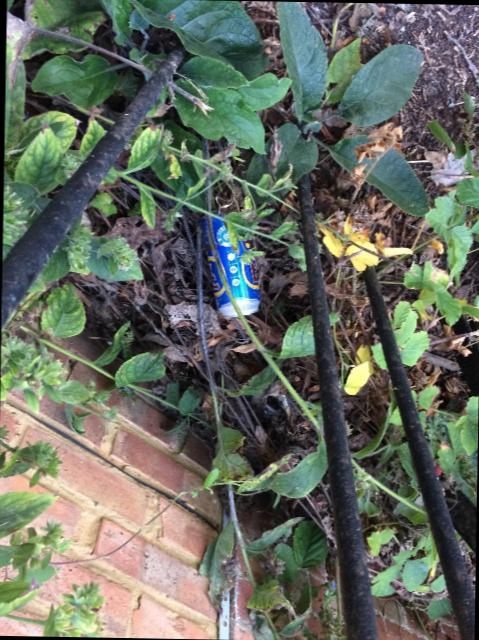metal: (200, 215, 259, 317)
